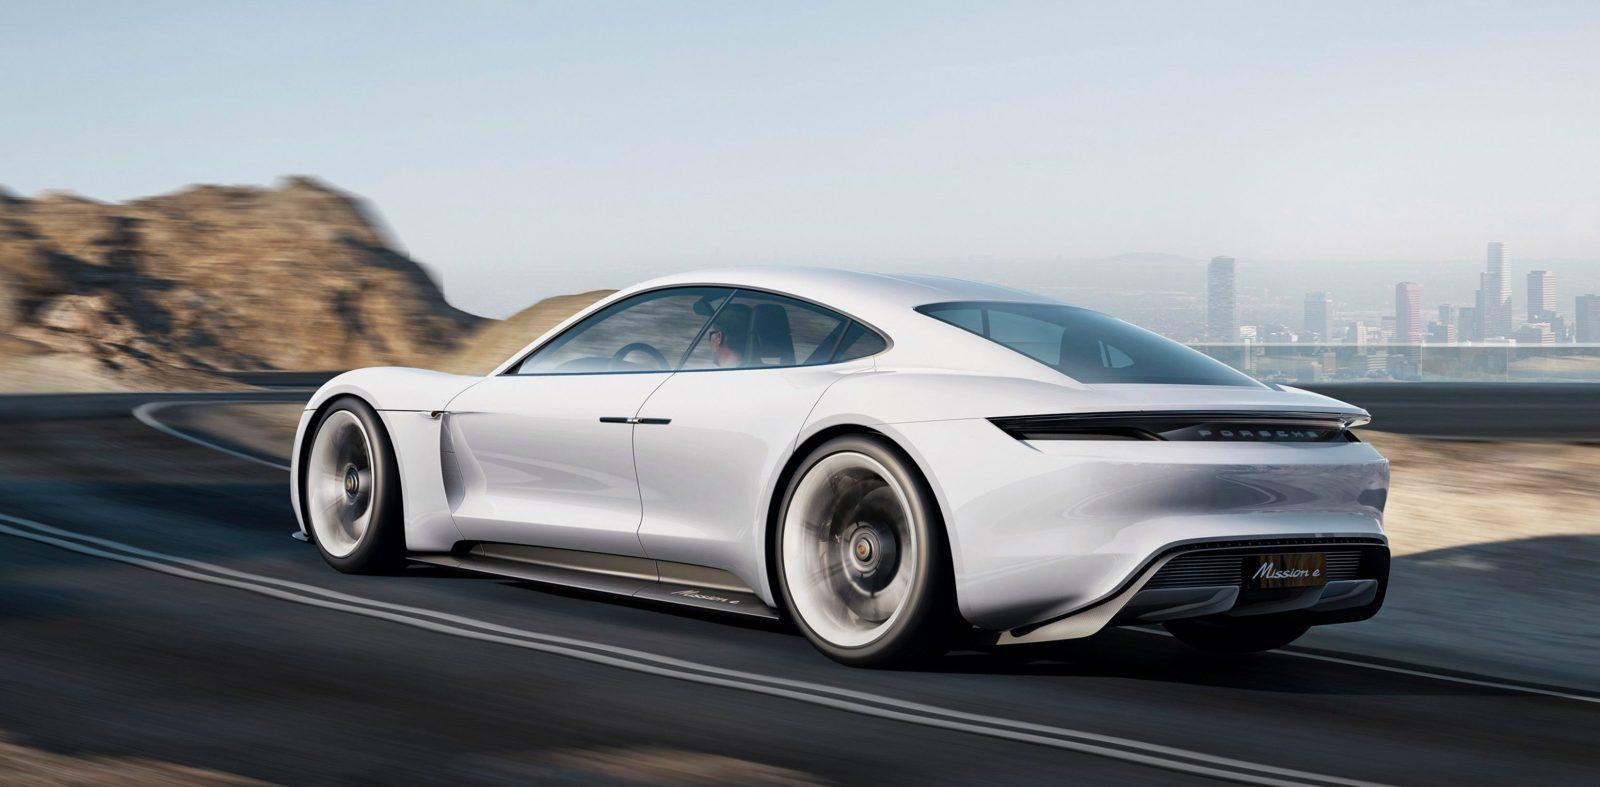car: (261, 207, 1496, 698)
